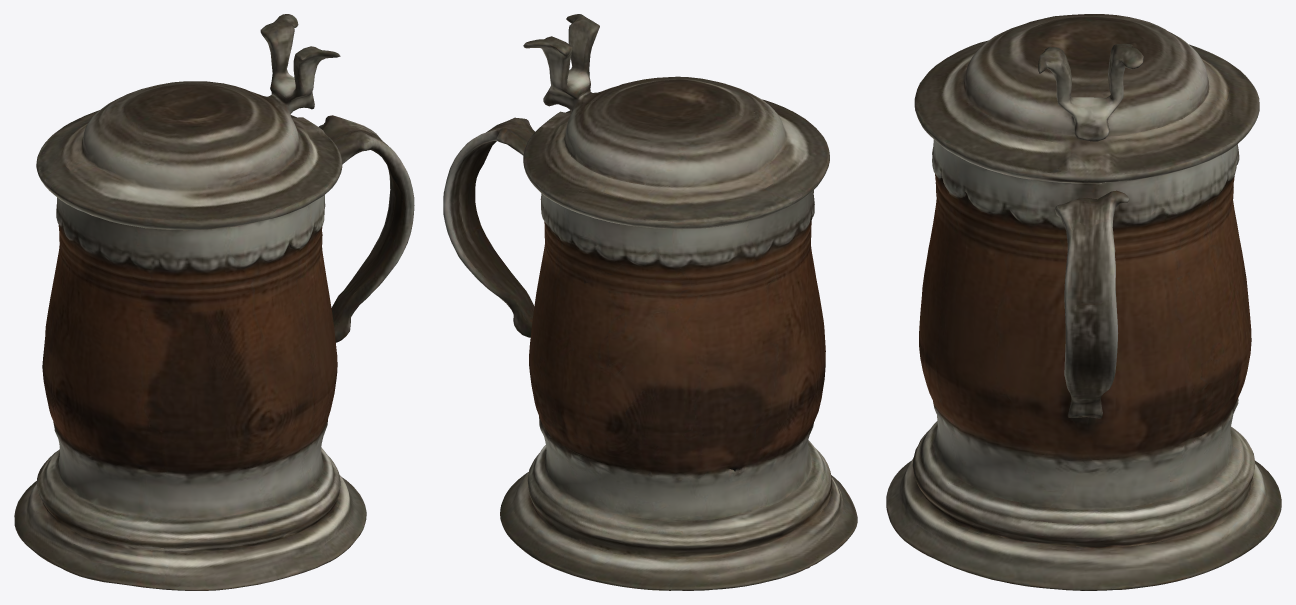
Rendered from stein.glb.
3 views of the same model, side by side, from view 1: azimuth 30°, elevation 25°; view 2: azimuth 150°, elevation 25°; view 3: azimuth 270°, elevation 25° (orthographic). The views are drawn at different scales.
Visible parts, largest first — view 1: geometry_0; view 2: geometry_0; view 3: geometry_0.
Boxes of the visible parts, box(x1,y1,x2,y2) form: geometry_0: box(14, 14, 414, 590); geometry_0: box(443, 14, 857, 590); geometry_0: box(886, 14, 1281, 590).
Bounding box in the file's own units: 0.8485 × 1 × 0.6886.
1 material, 1 textured.
